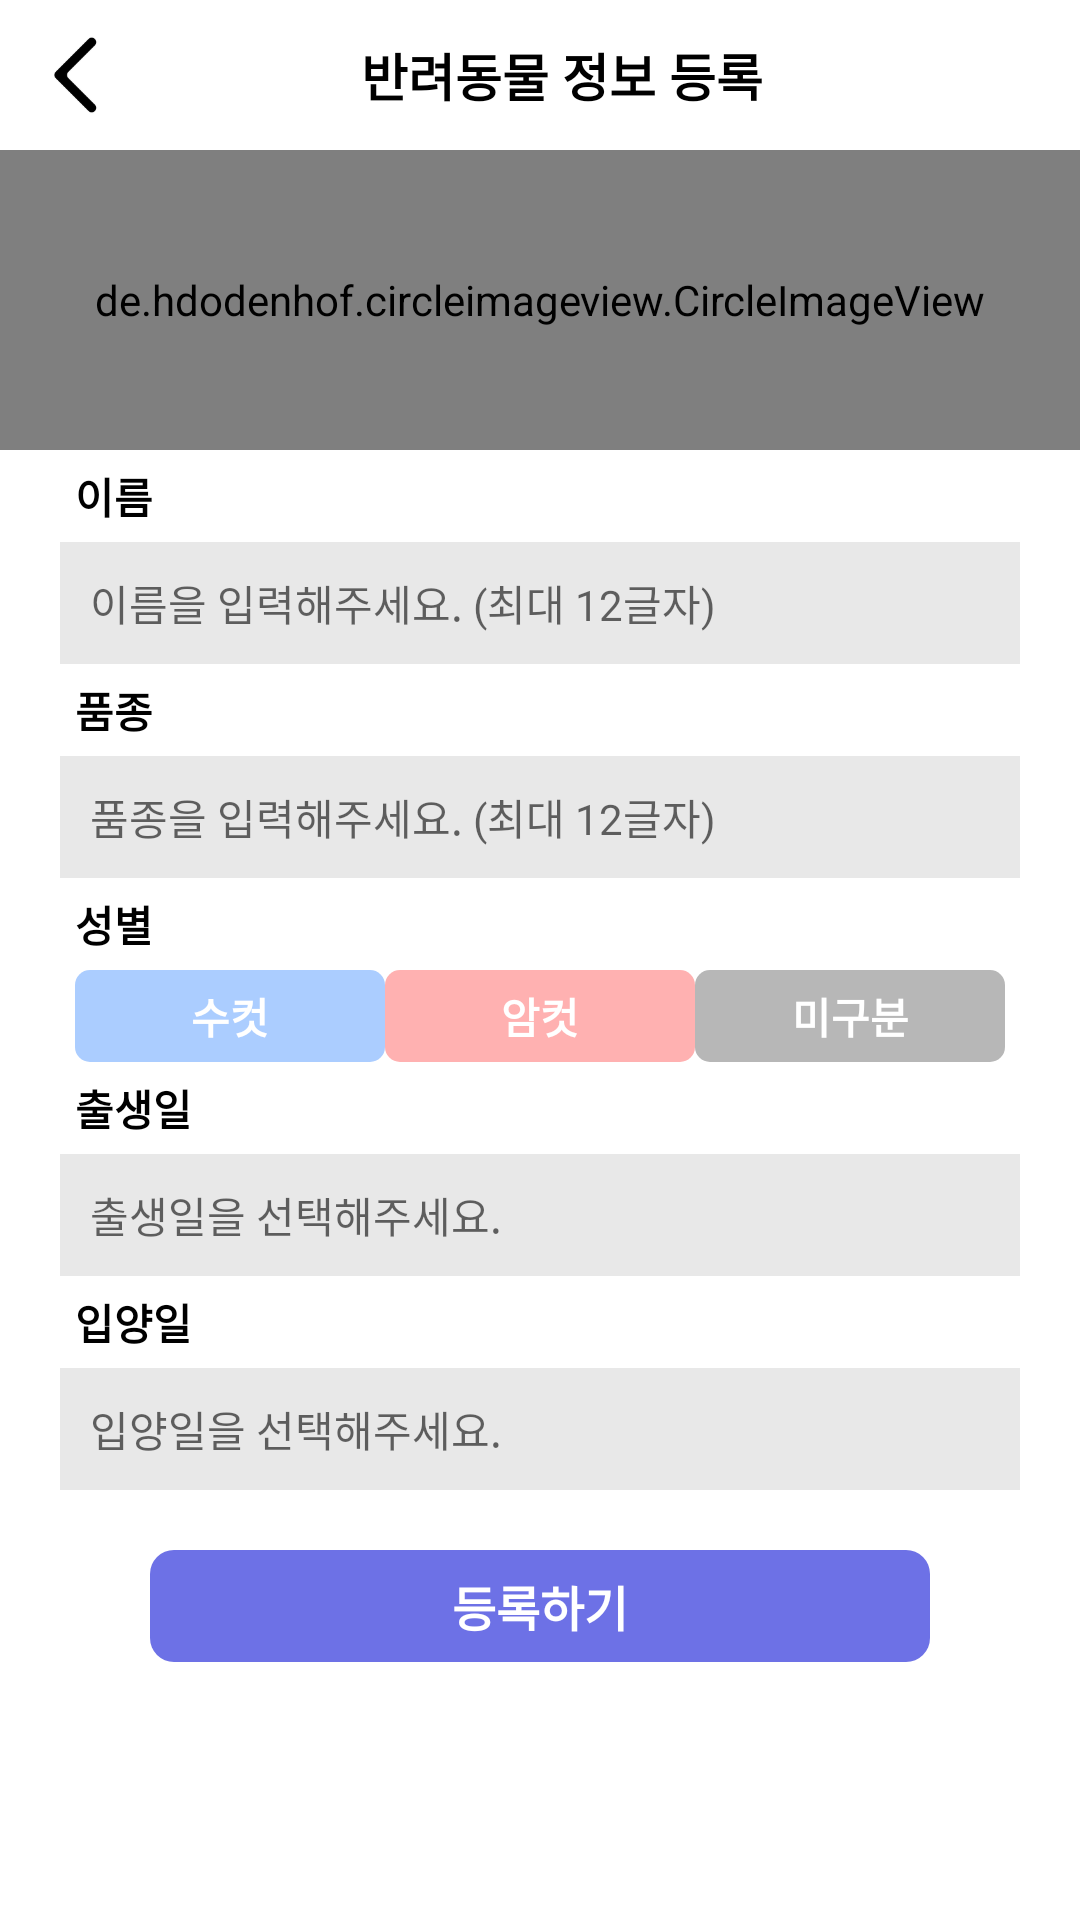

Icons on this 1080 × 1920 Android screen, each with the point to tap as [x,y]:
back: [75,75]
